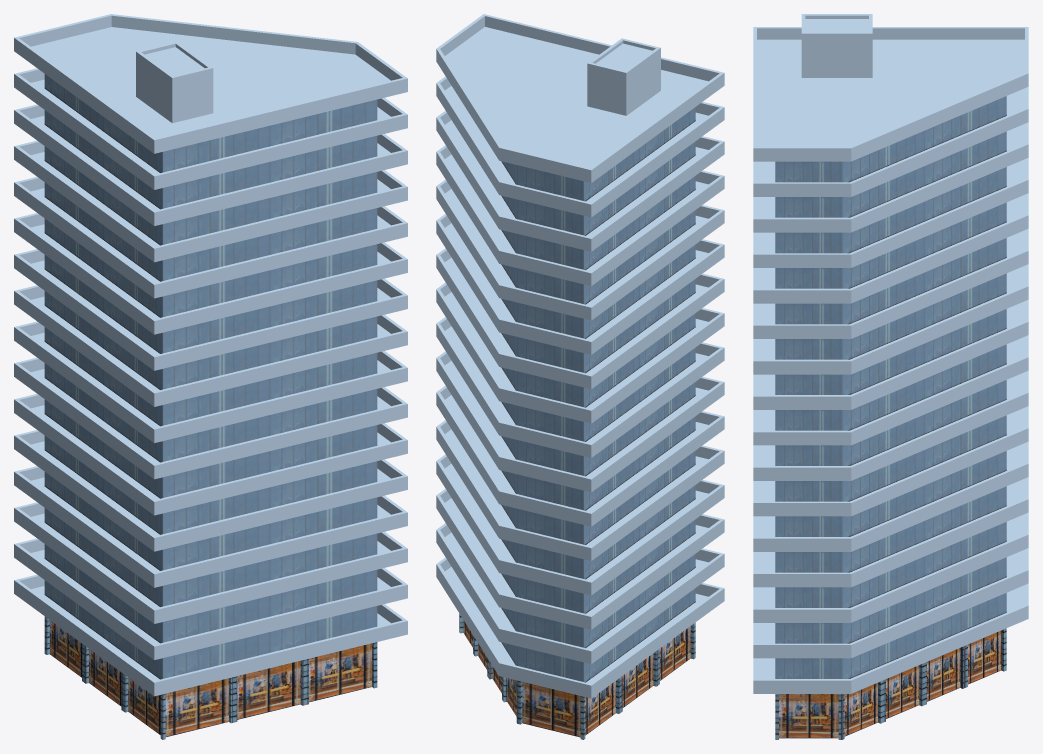
The model's file is Medium_Building_11.fbx.
The picture shows the model from 3 angles, left to right: view 1: azimuth 30°, elevation 25°; view 2: azimuth 150°, elevation 25°; view 3: azimuth 270°, elevation 25°; orthographic projection. The views are drawn at different scales.
Visible parts, largest first — view 1: Medium_Building_11; view 2: Medium_Building_11; view 3: Medium_Building_11.
Part boxes in pixels (<box>): Medium_Building_11: <box>14,14,407,739</box>; Medium_Building_11: <box>436,14,724,739</box>; Medium_Building_11: <box>753,14,1028,739</box>.
Size of the model in its own units: 2348 by 5720 by 2249.
